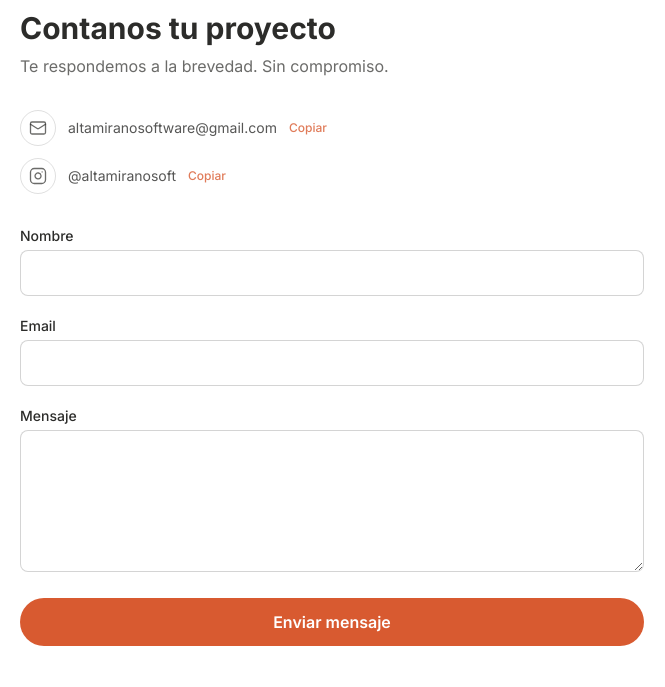
ContactSection — estados de UI › no envía la solicitud si el mensaje tiene menos de 10 caracteres (validación de cliente)
Type "Axel" into the field labelled "Nombre" at (332,273), box [20,250,644,296]
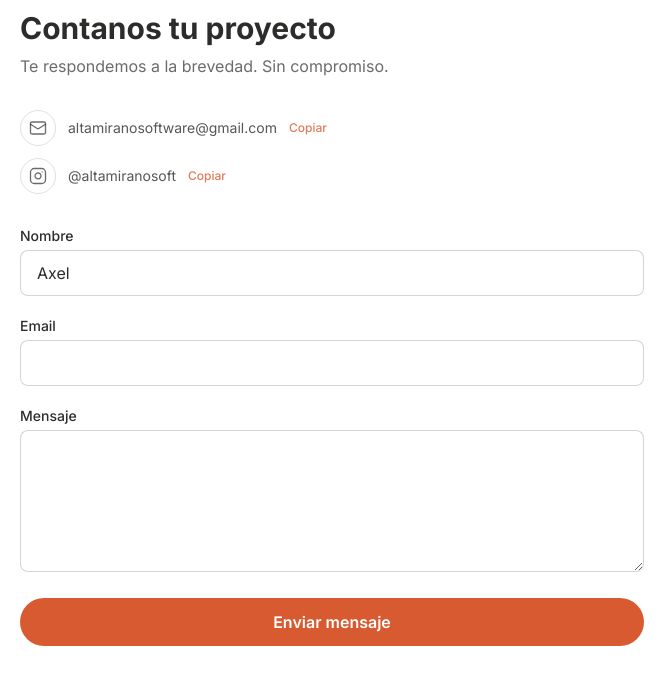
Type "axel@example.com" into the field labelled "Email" at (332,363), box [20,340,644,386]
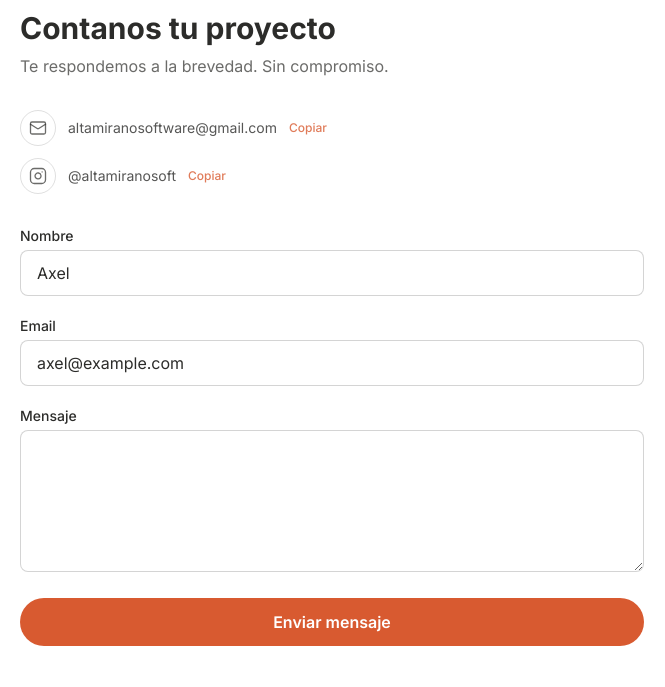
Type "corto" into the text box labelled "Mensaje" at (332,501), box [20,430,644,572]
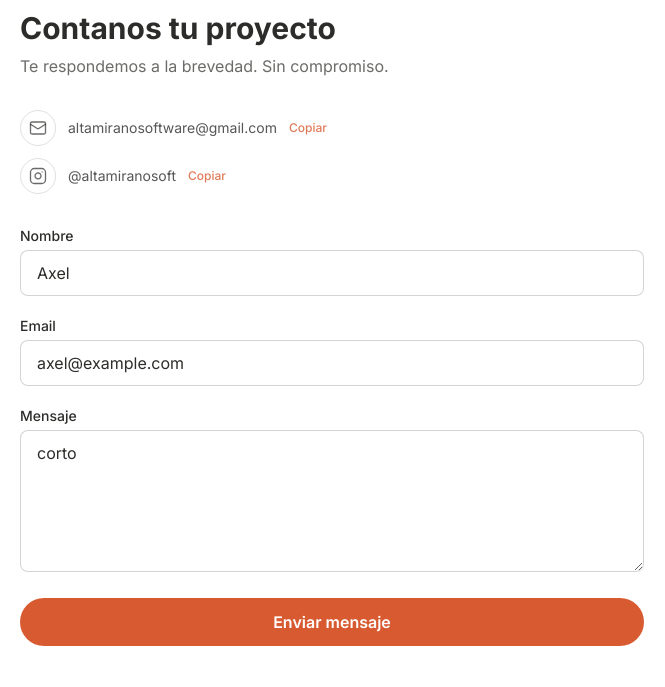
Click the button "Enviar mensaje" at (332,622), box [20,598,644,646]
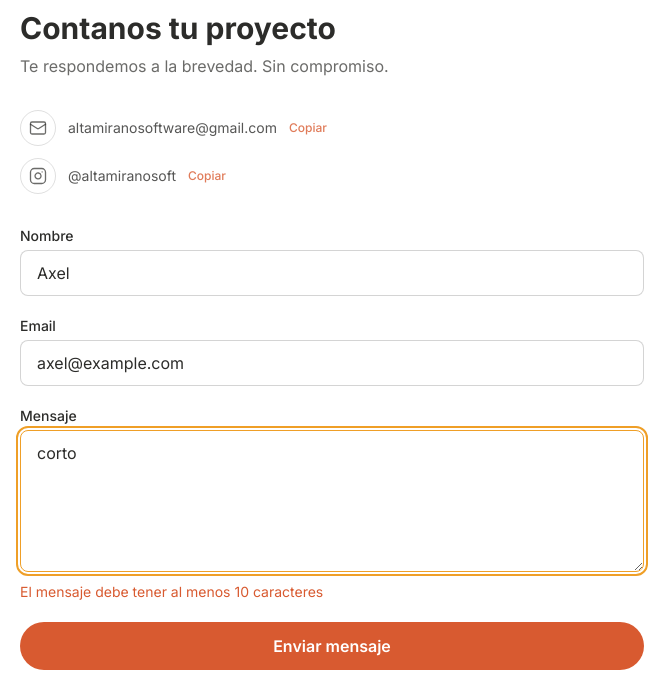
Result: the text "El mensaje debe tener al menos 10 caracteres" is shown at [20,583,323,600]
